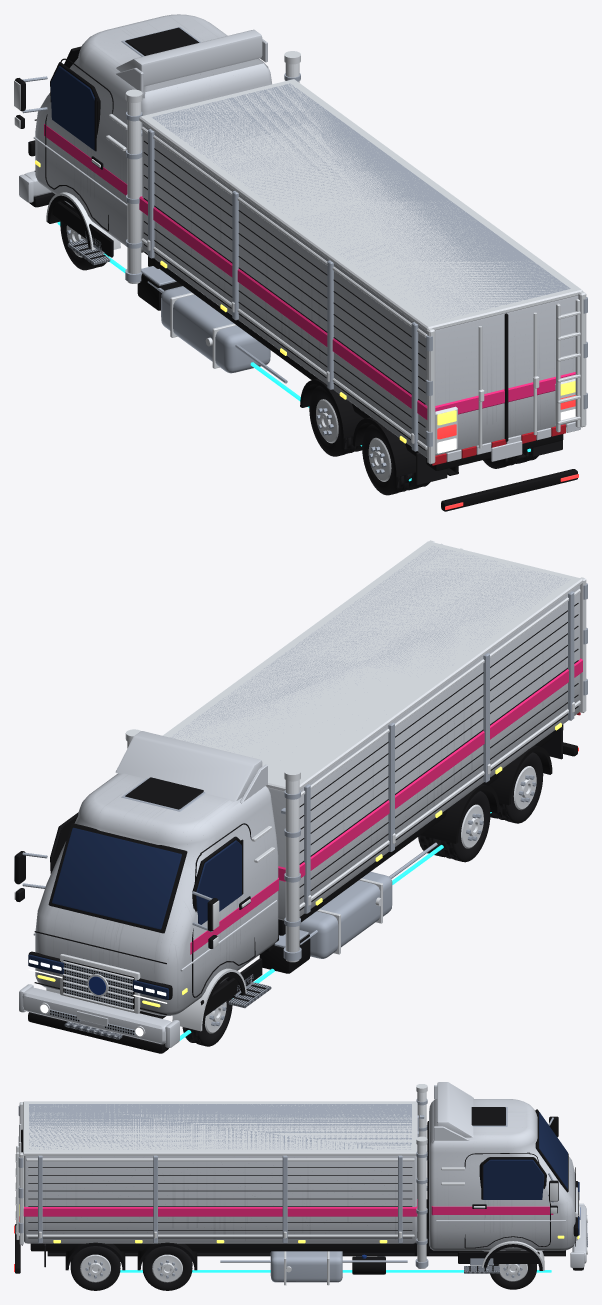
Rendered from dekotora_truck_base_aero.glb.
3 views of the same model, one above another, from view 1: azimuth 30°, elevation 25°; view 2: azimuth 150°, elevation 25°; view 3: azimuth 270°, elevation 25° (orthographic). The views are drawn at different scales.
Visible parts, largest first — view 1: truck_paint_white_panel, truck_chrome, truck_steel, truck_plastic_black, truck_paint_pink, truck_paint_white, truck_glass, wheel_r_L_1.5_1.06, wheel_r_L_3.0_1.06, truck_rubber, wheel_f_L, truck_lamp_amber (+1 smaller); view 2: truck_paint_white_panel, truck_chrome, truck_steel, truck_plastic_black, truck_glass, truck_paint_white, truck_paint_pink, wheel_r_L_3.0_1.06, wheel_r_L_1.5_1.06, truck_mesh_perf, wheel_f_L, truck_diamond; view 3: truck_paint_white_panel, truck_chrome, truck_steel, truck_plastic_black, truck_paint_pink, truck_glass, truck_paint_white, wheel_r_R_3.0_1.06, wheel_r_R_1.5_1.06, wheel_f_R, truck_lamp_cyan, truck_diamond.
Part boxes in pixels (<box>): truck_paint_white_panel: <box>35,14,578,457</box>; truck_chrome: <box>14,51,586,464</box>; truck_steel: <box>22,27,587,451</box>; truck_plastic_black: <box>15,27,577,511</box>; truck_paint_pink: <box>44,124,575,419</box>; truck_paint_white: <box>19,29,580,461</box>; truck_glass: <box>28,65,95,151</box>; wheel_r_L_1.5_1.06: <box>362,424,413,495</box>; wheel_r_L_3.0_1.06: <box>309,385,358,456</box>; truck_rubber: <box>416,440,562,484</box>; wheel_f_L: <box>60,203,109,270</box>; truck_lamp_amber: <box>35,160,575,443</box>; truck_paint_white_panel: <box>35,585,579,1015</box>; truck_chrome: <box>14,540,586,1037</box>; truck_steel: <box>22,546,587,996</box>; truck_plastic_black: <box>15,603,578,1053</box>; truck_glass: <box>28,827,242,999</box>; truck_paint_white: <box>19,731,277,1047</box>; truck_paint_pink: <box>190,658,582,954</box>; wheel_r_L_3.0_1.06: <box>438,791,490,862</box>; wheel_r_L_1.5_1.06: <box>494,752,543,823</box>; truck_mesh_perf: <box>64,963,132,1009</box>; wheel_f_L: <box>182,979,232,1046</box>; truck_diamond: <box>64,982,271,1039</box>; truck_paint_white_panel: <box>24,1099,575,1250</box>; truck_chrome: <box>15,1084,587,1285</box>; truck_steel: <box>18,1099,553,1282</box>; truck_plastic_black: <box>15,1107,583,1274</box>; truck_paint_pink: <box>23,1199,553,1216</box>; truck_glass: <box>483,1112,579,1235</box>; truck_paint_white: <box>21,1082,587,1267</box>; wheel_r_R_3.0_1.06: <box>142,1246,192,1290</box>; wheel_r_R_1.5_1.06: <box>70,1246,120,1290</box>; wheel_f_R: <box>489,1250,536,1289</box>; truck_lamp_cyan: <box>120,1270,551,1272</box>; truck_diamond: <box>464,1233,587,1273</box>.
Size of the model in its own units: 3.28 by 3.8 by 11.96.
17 materials, 4 textured.
